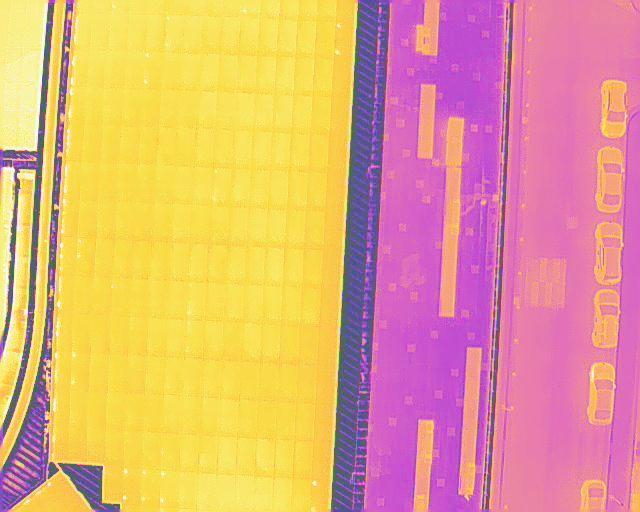Cell: (312, 480, 330, 511)
Cell-Multi: (71, 352, 90, 393), (142, 53, 164, 88), (139, 468, 160, 504), (333, 23, 352, 62), (165, 15, 184, 53), (76, 238, 95, 276), (66, 125, 84, 163), (122, 467, 141, 502), (60, 238, 77, 276), (62, 201, 79, 238), (161, 470, 179, 504)
No-Anomaly: (181, 396, 204, 434), (305, 209, 326, 249), (245, 245, 266, 285), (283, 248, 304, 288), (88, 352, 109, 392), (254, 438, 276, 476), (219, 361, 241, 399), (182, 358, 204, 396), (292, 441, 314, 479), (170, 204, 191, 243), (223, 284, 244, 323), (185, 282, 206, 321), (212, 168, 233, 207), (201, 15, 222, 54), (235, 438, 257, 475), (132, 240, 152, 280), (189, 243, 209, 283), (264, 246, 284, 286), (303, 249, 323, 289), (233, 130, 253, 170), (261, 323, 281, 363), (242, 322, 262, 362), (239, 16, 259, 56), (112, 240, 133, 278), (121, 88, 142, 126), (292, 95, 313, 133), (296, 20, 317, 58), (143, 394, 164, 432), (276, 402, 297, 440), (199, 397, 220, 435), (311, 442, 332, 480), (274, 440, 295, 478), (110, 315, 130, 354), (323, 210, 343, 249), (286, 209, 306, 248), (94, 239, 114, 278), (207, 244, 227, 283), (169, 242, 189, 281), (129, 278, 149, 317), (166, 281, 186, 320), (319, 288, 339, 327), (309, 133, 329, 172), (164, 357, 184, 396), (253, 131, 273, 170), (297, 364, 317, 403), (223, 322, 243, 361), (80, 162, 100, 201), (140, 87, 160, 126), (262, 286, 283, 323), (242, 285, 263, 322), (300, 288, 321, 325), (282, 287, 303, 324), (236, 56, 257, 93), (198, 54, 219, 91), (216, 437, 237, 474), (277, 363, 298, 400), (90, 314, 110, 352), (165, 320, 185, 358), (78, 200, 98, 238), (134, 202, 154, 240), (248, 208, 268, 246), (205, 283, 225, 321), (275, 56, 295, 94), (256, 55, 276, 93), (328, 134, 348, 172), (103, 86, 122, 126), (197, 91, 217, 129), (177, 128, 197, 166), (238, 400, 258, 438), (145, 356, 165, 394), (126, 355, 146, 393), (239, 362, 259, 400), (201, 360, 221, 398), (299, 326, 319, 364), (203, 321, 223, 359), (217, 91, 237, 129), (173, 166, 193, 204), (125, 393, 145, 431), (257, 400, 277, 438), (198, 435, 218, 473), (293, 59, 314, 95), (294, 404, 315, 440), (147, 318, 166, 357), (230, 207, 249, 246), (74, 276, 93, 315), (250, 170, 269, 209), (269, 170, 288, 209), (215, 129, 234, 168), (158, 126, 177, 165), (121, 125, 140, 164), (280, 325, 299, 364), (100, 162, 119, 201), (288, 171, 308, 208), (210, 207, 230, 244), (179, 53, 199, 90), (87, 51, 107, 88), (178, 90, 198, 127), (255, 94, 275, 131), (311, 97, 331, 134), (259, 363, 279, 400), (258, 19, 278, 56), (315, 22, 335, 59), (135, 165, 155, 202), (106, 393, 126, 430), (192, 167, 212, 204), (218, 400, 239, 435), (128, 317, 147, 355), (185, 320, 204, 358), (307, 171, 326, 209), (97, 202, 116, 240), (116, 202, 135, 240), (191, 205, 210, 243), (227, 246, 246, 284), (149, 280, 168, 318), (111, 277, 130, 315), (92, 277, 111, 315), (109, 13, 128, 51), (162, 52, 181, 90), (290, 133, 309, 171), (272, 132, 291, 170), (196, 129, 215, 167), (274, 95, 293, 133), (140, 127, 159, 165), (108, 354, 127, 392), (117, 164, 136, 202), (155, 165, 174, 203), (236, 92, 255, 130), (151, 241, 169, 281), (313, 60, 333, 96), (83, 126, 103, 162), (163, 396, 183, 432), (317, 364, 335, 404), (221, 14, 239, 54), (72, 314, 91, 351), (146, 14, 165, 51), (128, 13, 147, 50), (219, 55, 238, 92), (161, 433, 180, 470), (313, 404, 332, 441), (318, 327, 337, 364), (102, 126, 121, 163), (278, 20, 297, 57), (104, 464, 123, 501), (124, 430, 143, 467), (180, 434, 199, 471), (322, 249, 340, 288), (124, 51, 144, 86), (87, 393, 107, 428), (104, 429, 124, 464), (327, 172, 345, 210), (269, 209, 287, 247), (91, 12, 109, 50), (331, 61, 350, 97), (85, 88, 103, 126), (330, 97, 349, 133), (142, 432, 161, 468), (184, 16, 202, 53), (154, 204, 172, 241), (161, 89, 179, 126), (232, 170, 250, 207), (106, 52, 125, 87), (86, 427, 105, 462), (69, 426, 87, 461), (56, 314, 73, 351), (179, 472, 198, 505), (69, 393, 87, 427), (273, 478, 293, 508), (236, 475, 255, 506), (217, 474, 236, 505), (255, 476, 274, 507), (198, 474, 217, 504), (292, 479, 311, 509)
Unclassified: (54, 351, 71, 393), (71, 51, 90, 88), (57, 276, 75, 315), (69, 88, 87, 126), (74, 13, 91, 51), (52, 426, 69, 462), (65, 162, 81, 200), (53, 392, 71, 425)
